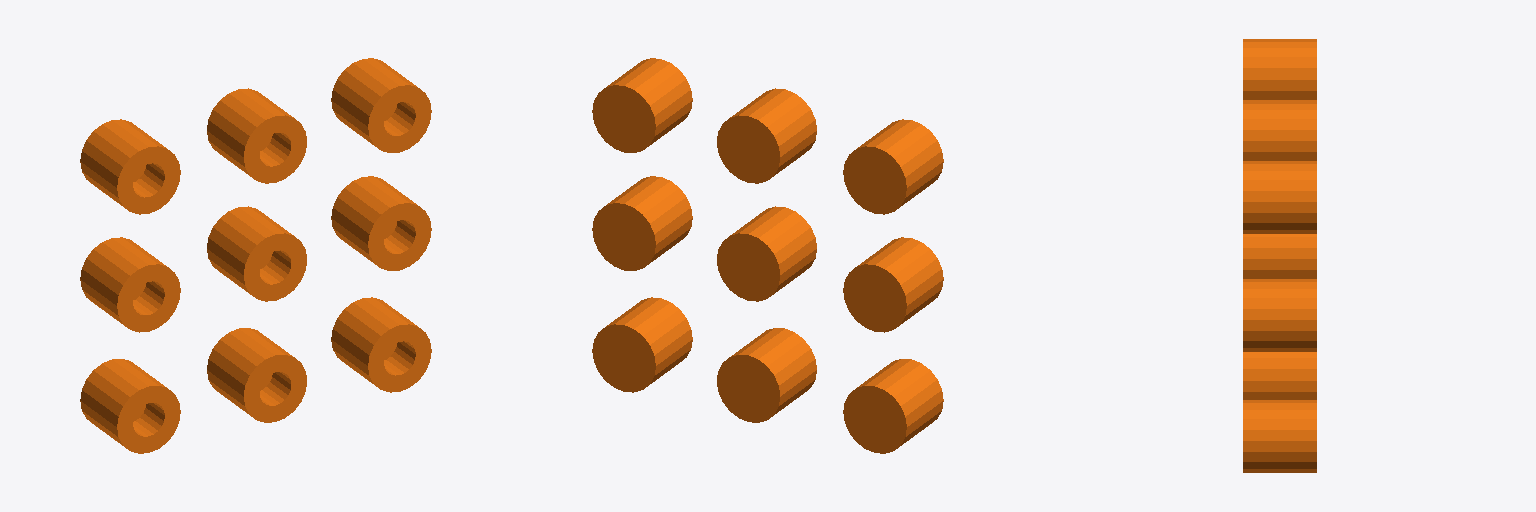
The model's file is duckpad_v2_lock.obj.
The picture shows the model from 3 angles: view 1: azimuth 30°, elevation 25°; view 2: azimuth 150°, elevation 25°; view 3: azimuth 270°, elevation 25°; orthographic projection.
Visible parts, largest first — view 1: obj_0; view 2: obj_0; view 3: obj_0.
Part boxes in pixels (x1,y1,x2,y2): obj_0: (80, 58, 431, 453); obj_0: (592, 58, 943, 453); obj_0: (1243, 39, 1316, 472).
Bounding box in the file's own units: 29.6 × 27.5 × 6.